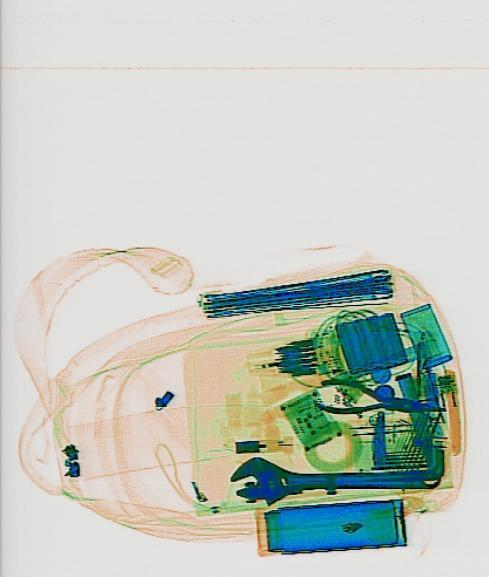Pliers: (310, 371, 446, 430)
Wrench: (227, 454, 440, 506)
